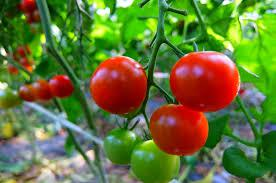tomato: (172, 51, 239, 112), (91, 54, 146, 114), (151, 105, 207, 157), (49, 77, 75, 99), (30, 81, 49, 101)
